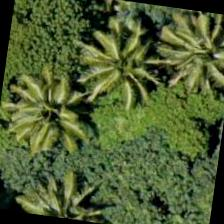Kelapa_Sawit: (69, 9, 171, 111), (0, 64, 98, 167), (153, 6, 223, 97)
